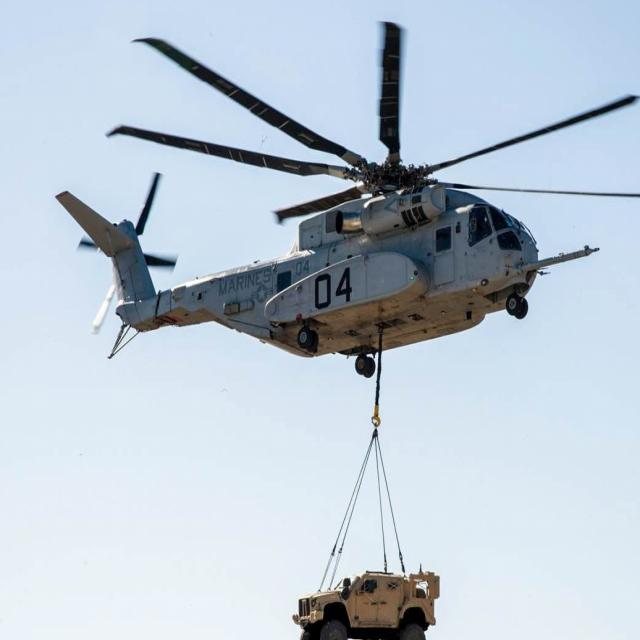helicopter: (54, 17, 640, 385)
